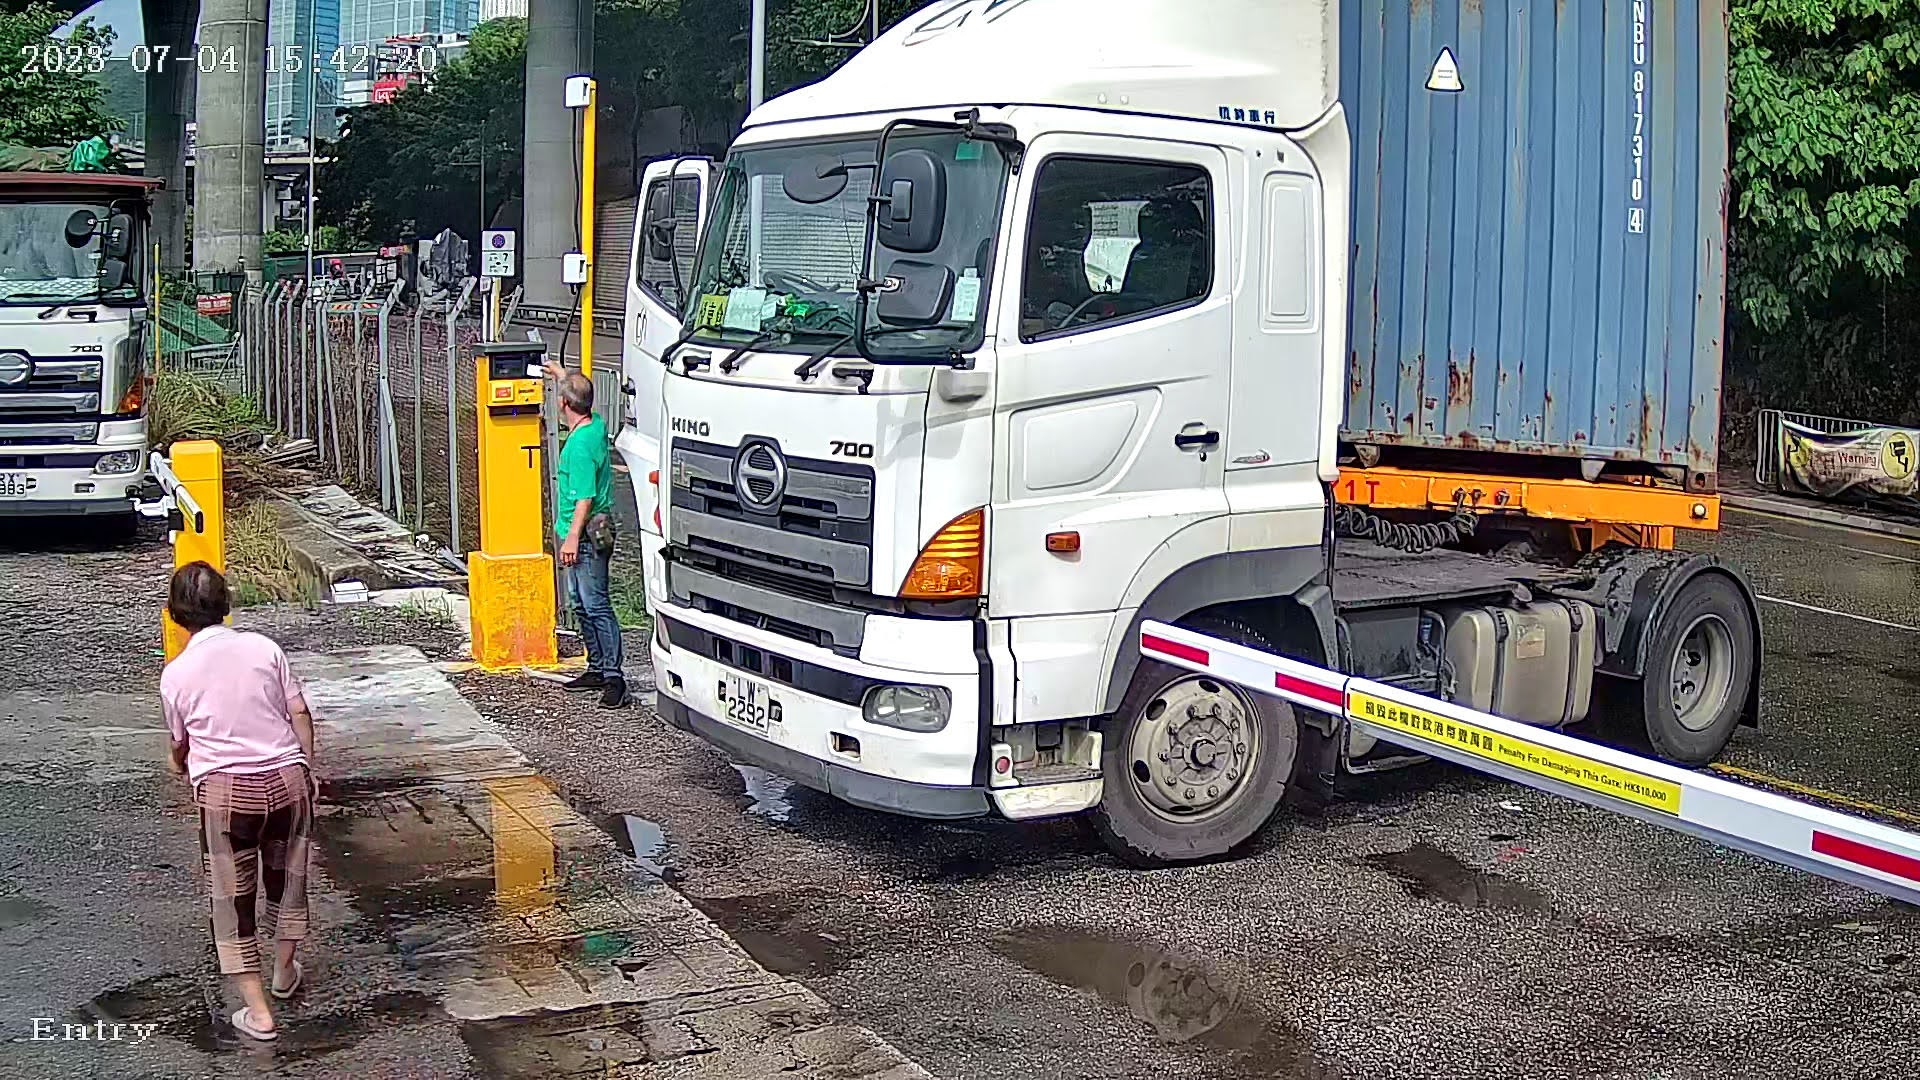truck: (622, 3, 1797, 893)
